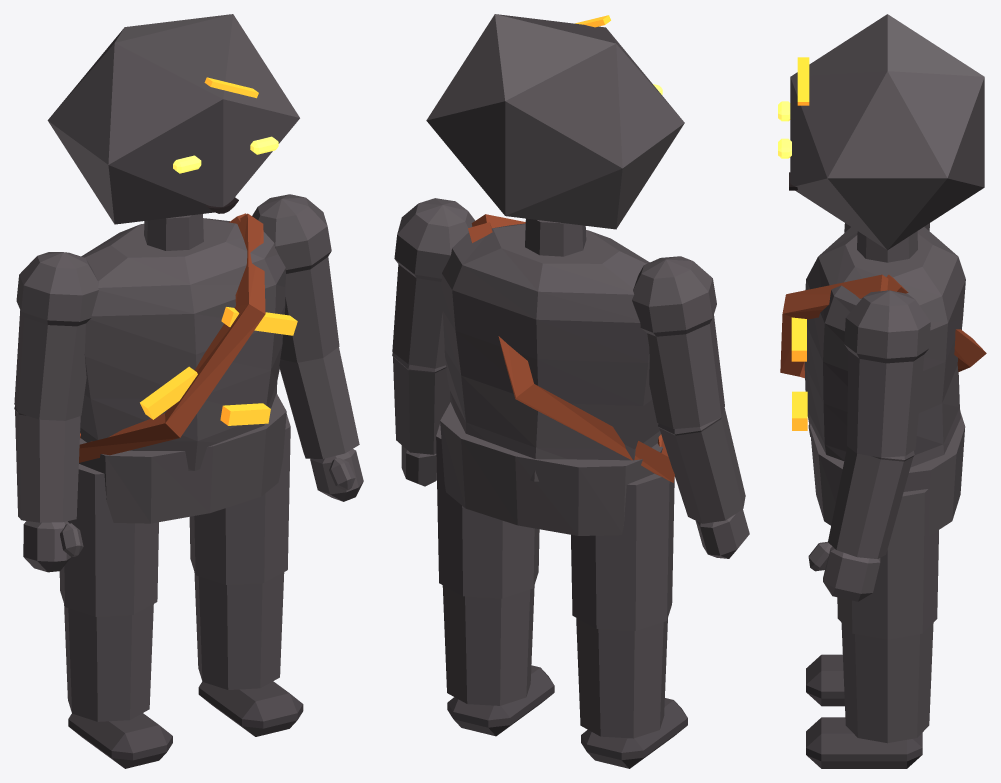
File: emb-k3.glb
3 renders of one model, left to right at view 1: azimuth 30°, elevation 25°; view 2: azimuth 150°, elevation 25°; view 3: azimuth 270°, elevation 25°, orthographic. The views are drawn at different scales.
Visible parts, largest first — view 1: kopf, torso, bein_r, arm_r, bein_l, arm_l, becken, schärpe, leuchtlinien, schuh_l, schuh_r, hand_r (+3 smaller); view 2: torso, kopf, bein_r, arm_r, bein_l, becken, arm_l, schärpe, schuh_l, schuh_r, hals, hand_r (+1 smaller); view 3: kopf, arm_l, torso, bein_l, becken, schuh_l, schärpe, hand_l, leuchtlinien, schuh_r, hals, gesicht.
Part boxes in pixels (box(x1,y1,x2,y2)): kopf: box(47, 14, 299, 224); torso: box(80, 218, 286, 470); bein_r: box(59, 464, 158, 721); arm_r: box(14, 252, 98, 522); bein_l: box(189, 414, 290, 689); arm_l: box(252, 194, 359, 458); becken: box(79, 393, 286, 523); schärpe: box(79, 213, 265, 462); leuchtlinien: box(140, 77, 297, 425); schuh_l: box(198, 681, 303, 736); schuh_r: box(68, 713, 172, 768); hand_r: box(23, 521, 83, 572); torso: box(441, 223, 660, 481); kopf: box(426, 14, 684, 229); bein_r: box(571, 473, 674, 738); arm_r: box(632, 256, 745, 523); bein_l: box(436, 423, 539, 705); becken: box(440, 402, 662, 535); arm_l: box(392, 198, 475, 454); schärpe: box(468, 214, 674, 482); schuh_l: box(447, 665, 554, 736); schuh_r: box(581, 698, 687, 768); hals: box(525, 218, 586, 256); hand_r: box(695, 509, 749, 558); kopf: box(790, 14, 984, 250); arm_l: box(828, 290, 930, 558); torso: box(804, 227, 965, 467); bein_l: box(837, 489, 938, 743); becken: box(810, 411, 965, 535); schuh_l: box(806, 717, 922, 768); schärpe: box(780, 274, 986, 378); hand_l: box(808, 541, 880, 601); leuchtlinien: box(791, 57, 809, 430); schuh_r: box(806, 654, 844, 706); hals: box(857, 231, 917, 262); gesicht: box(778, 101, 797, 190).
Size of the model in its own units: 0.0129 by 0.0256 by 0.00705.
